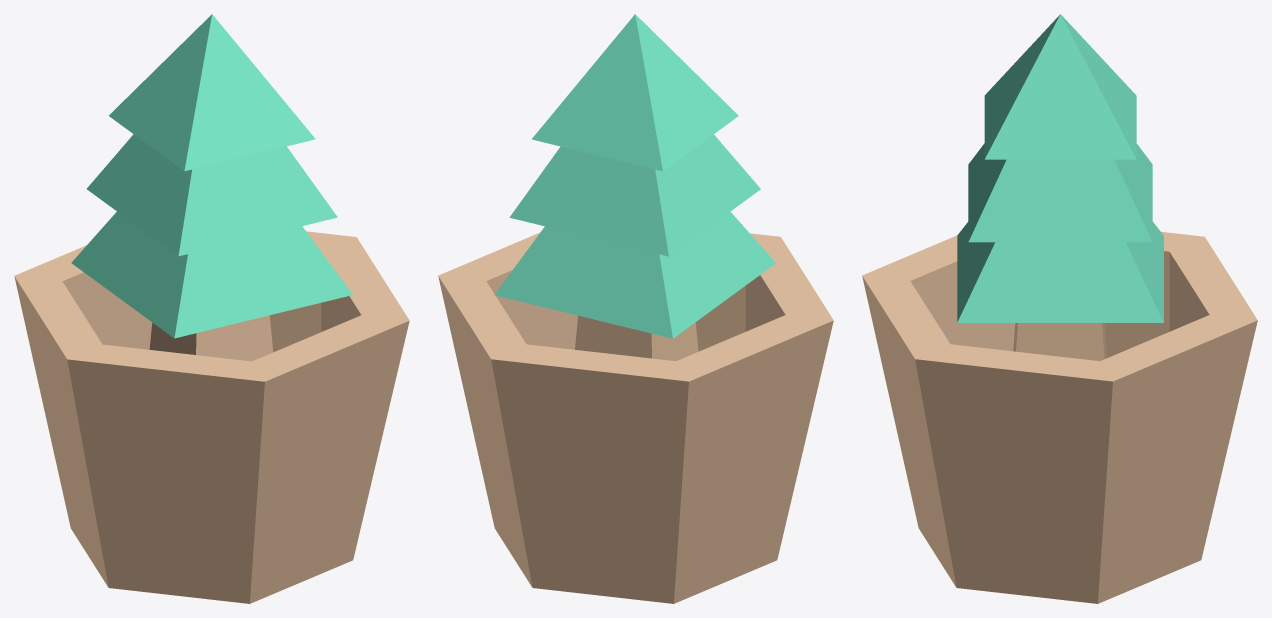
The model's file is plantSmall1.glb.
3 renders of one model, left to right at view 1: azimuth 30°, elevation 25°; view 2: azimuth 150°, elevation 25°; view 3: azimuth 270°, elevation 25°, orthographic.
Parts seen in each view (by area): view 1: plantSmall1(Clone); view 2: plantSmall1(Clone); view 3: plantSmall1(Clone).
Boxes of the visible parts, x1,y1,x2,y2 form: plantSmall1(Clone): (14,14,409,603); plantSmall1(Clone): (438,14,833,603); plantSmall1(Clone): (862,14,1257,603).
Size of the model in its own units: 0.0947 by 0.14 by 0.0947.
